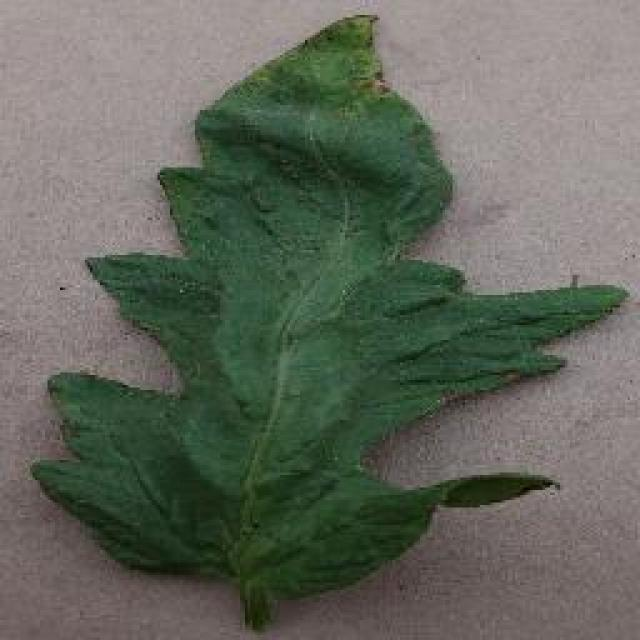bacterial spot: (25, 14, 639, 624)
